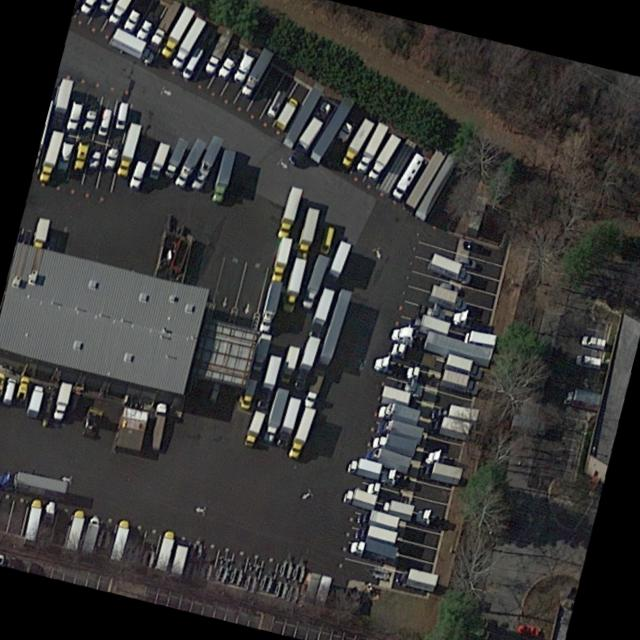large-vehicle: (391, 319, 492, 362), (316, 288, 351, 365), (0, 468, 69, 501), (286, 114, 324, 166), (190, 133, 224, 189), (159, 4, 195, 56), (171, 14, 206, 66), (370, 349, 421, 384), (389, 339, 443, 371), (339, 116, 374, 165), (173, 136, 207, 186), (354, 120, 387, 171), (391, 151, 426, 199), (241, 45, 274, 95), (275, 183, 304, 239), (286, 404, 316, 458), (109, 27, 155, 62), (300, 252, 329, 307), (367, 133, 401, 179), (429, 248, 473, 283), (256, 351, 283, 408), (261, 387, 289, 440), (293, 335, 321, 387), (281, 256, 307, 311), (203, 26, 234, 72), (48, 75, 74, 129), (323, 238, 353, 284), (150, 0, 181, 44), (275, 394, 301, 446), (116, 121, 141, 175), (347, 535, 398, 561), (39, 128, 64, 181), (393, 562, 440, 590), (211, 147, 235, 201), (370, 428, 418, 455), (295, 206, 320, 257), (258, 279, 282, 331), (374, 397, 422, 423), (309, 285, 334, 334), (421, 299, 468, 324), (434, 398, 481, 421), (429, 413, 472, 438), (270, 235, 293, 280), (152, 528, 176, 571), (422, 459, 465, 483), (378, 382, 421, 406), (429, 281, 467, 308), (371, 444, 412, 469), (163, 136, 188, 176), (108, 518, 131, 560), (356, 521, 398, 544), (356, 508, 402, 529), (147, 402, 167, 449), (445, 350, 481, 376), (342, 482, 378, 508), (441, 366, 478, 391), (563, 384, 603, 407), (303, 367, 326, 407), (250, 330, 273, 370), (272, 96, 299, 130), (168, 536, 191, 575), (345, 454, 382, 478), (243, 408, 266, 446), (413, 312, 451, 334), (148, 140, 170, 177), (65, 508, 84, 549), (80, 515, 101, 552), (52, 380, 72, 418), (239, 373, 259, 411), (279, 345, 300, 381), (379, 496, 415, 517), (32, 213, 52, 250), (24, 499, 42, 539), (463, 328, 497, 349), (25, 383, 44, 417), (128, 158, 148, 189), (108, 0, 129, 24)
small-vehicle: (232, 48, 256, 84), (181, 45, 205, 79), (264, 84, 287, 118), (56, 137, 75, 173), (70, 138, 90, 172), (66, 96, 85, 131), (579, 331, 608, 351), (318, 221, 336, 253), (96, 106, 113, 136), (114, 98, 129, 130), (81, 104, 98, 132), (87, 141, 104, 169), (14, 375, 31, 402), (103, 143, 120, 170), (574, 352, 602, 368), (2, 375, 16, 404), (515, 622, 540, 637), (468, 623, 490, 640), (460, 239, 482, 253), (457, 255, 478, 269), (440, 280, 458, 292), (0, 370, 7, 398)
